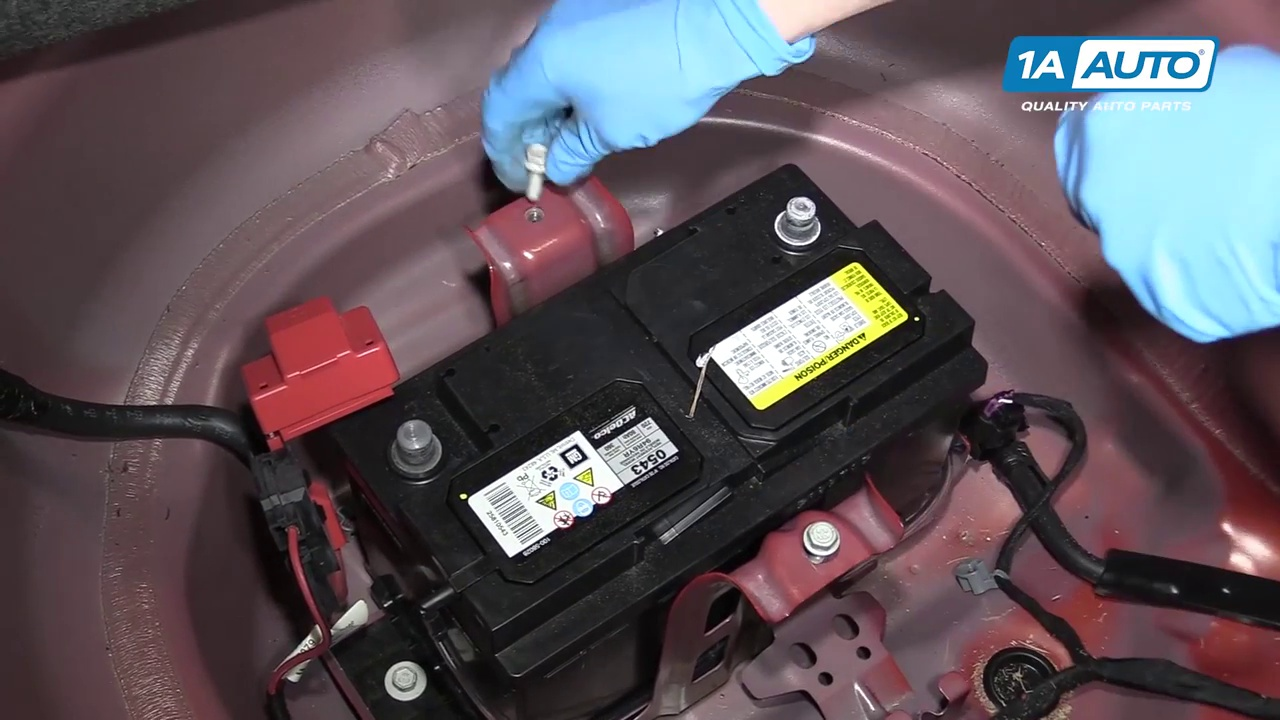battery: (361, 156, 980, 630)
neg_disconnected: (745, 186, 856, 266)
pos_disconnected: (221, 304, 493, 503)
